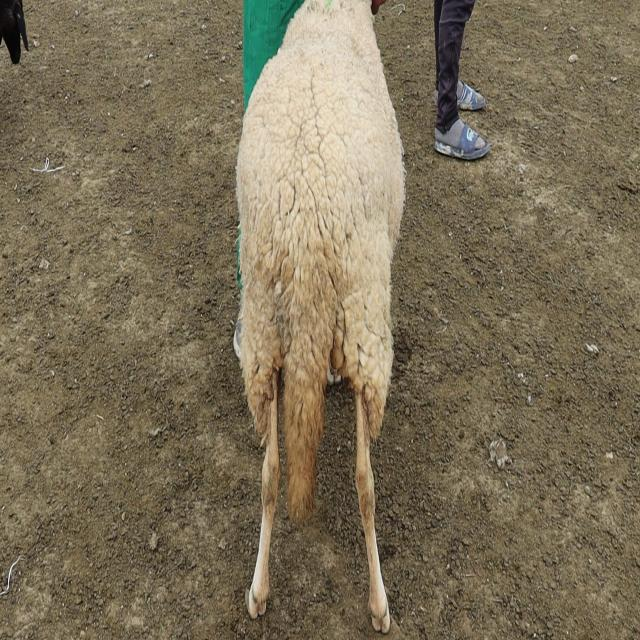Score_4: (233, 0, 405, 632)
